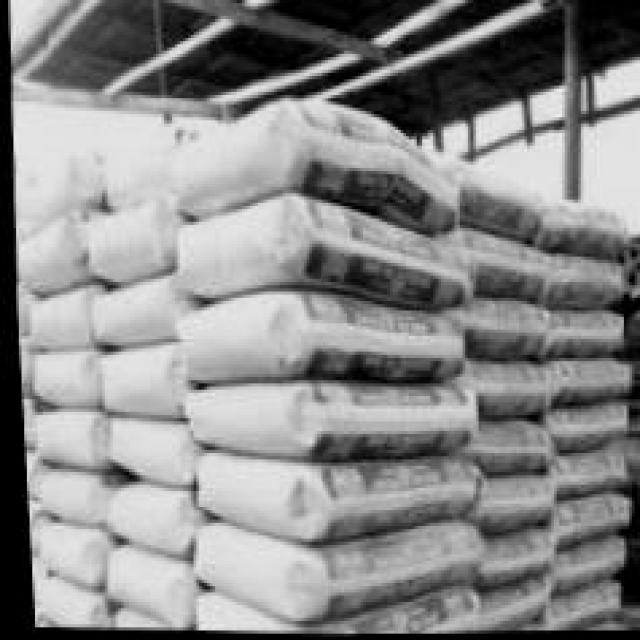gunny_bag: (160, 95, 460, 238), (172, 191, 469, 316), (184, 517, 484, 626), (187, 446, 484, 549), (174, 289, 461, 388), (178, 380, 478, 462), (186, 581, 474, 636), (434, 155, 537, 239), (95, 539, 189, 631), (85, 270, 181, 350), (98, 477, 191, 557), (96, 337, 180, 422), (82, 202, 168, 284), (529, 194, 632, 262), (101, 413, 190, 491), (457, 224, 544, 303), (455, 294, 548, 363), (13, 214, 85, 298), (20, 146, 90, 232), (464, 473, 556, 538), (456, 358, 554, 419), (541, 488, 632, 553), (28, 515, 107, 589), (472, 527, 556, 594), (22, 407, 102, 477), (460, 420, 555, 477), (537, 251, 623, 312), (24, 340, 98, 408), (468, 573, 550, 634), (543, 399, 627, 458), (549, 442, 626, 506), (537, 309, 626, 363), (544, 535, 619, 598), (22, 282, 88, 352), (548, 359, 636, 411), (535, 581, 618, 633), (98, 143, 165, 207), (26, 465, 96, 526), (34, 576, 104, 629), (103, 610, 174, 631), (18, 395, 33, 453), (15, 341, 31, 395), (22, 498, 35, 557), (20, 450, 35, 500), (25, 559, 38, 604)
